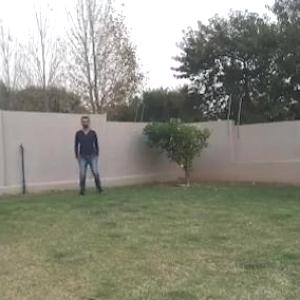follow: (78, 118, 96, 188)
